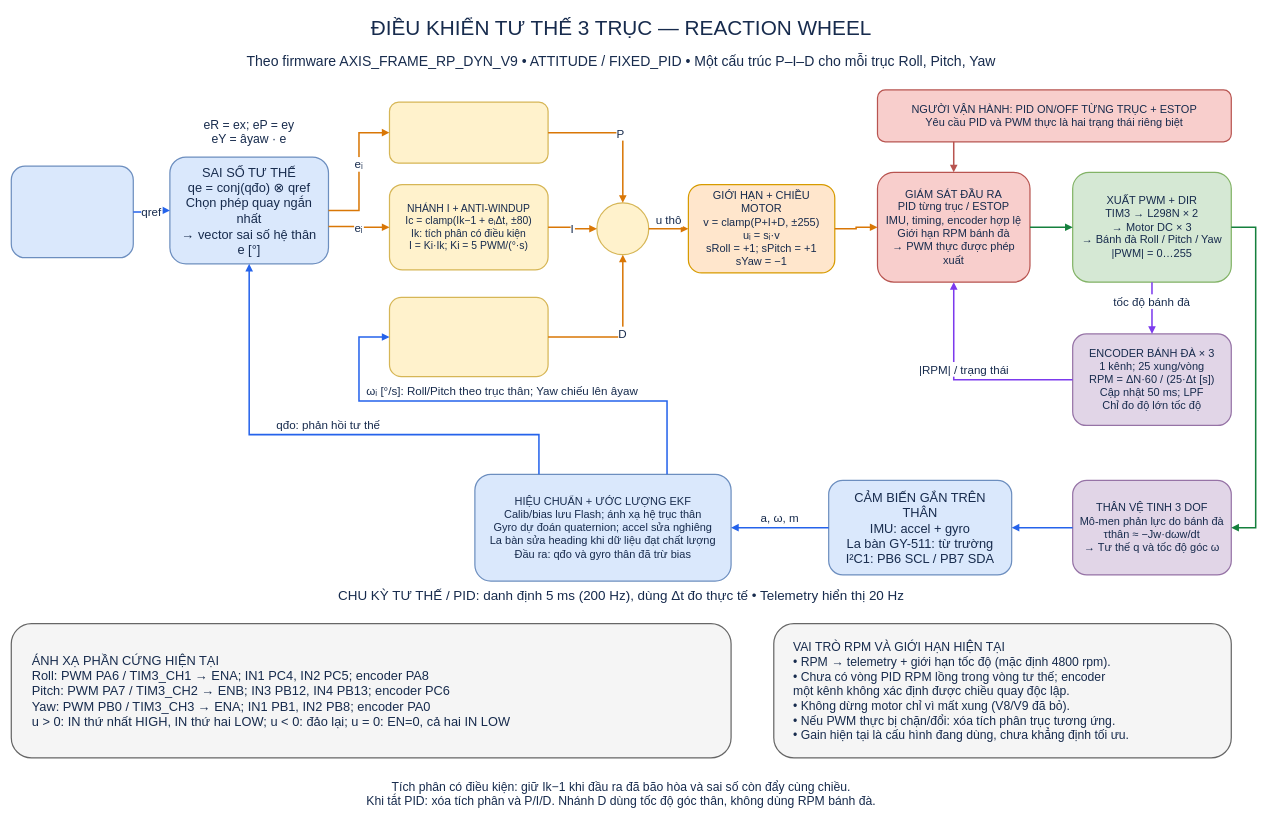
This 1272x820 diagram has some shape labels left out. The shapes that lost their labels are listed below. From the top down, each one's box as (x1, y1, x2, y2) in pixels, then its label:
(389, 101, 548, 163): NHÁNH P P = Kp · eᵢ Kp = 11,6667 PWM/°
(10, 165, 134, 258): GIÁ TRỊ ĐẶT Roll φref, Pitch θref Yaw ψref [°] → quaternion qref
(596, 202, 649, 255): Σ P + I + D
(389, 296, 548, 377): NHÁNH D TỪ GYRO ωf,k = 0,8·ωf,k−1 + 0,2·ωᵢ,k D = −Kd · ωf,k Kd = 8 PWM/(°/s)
